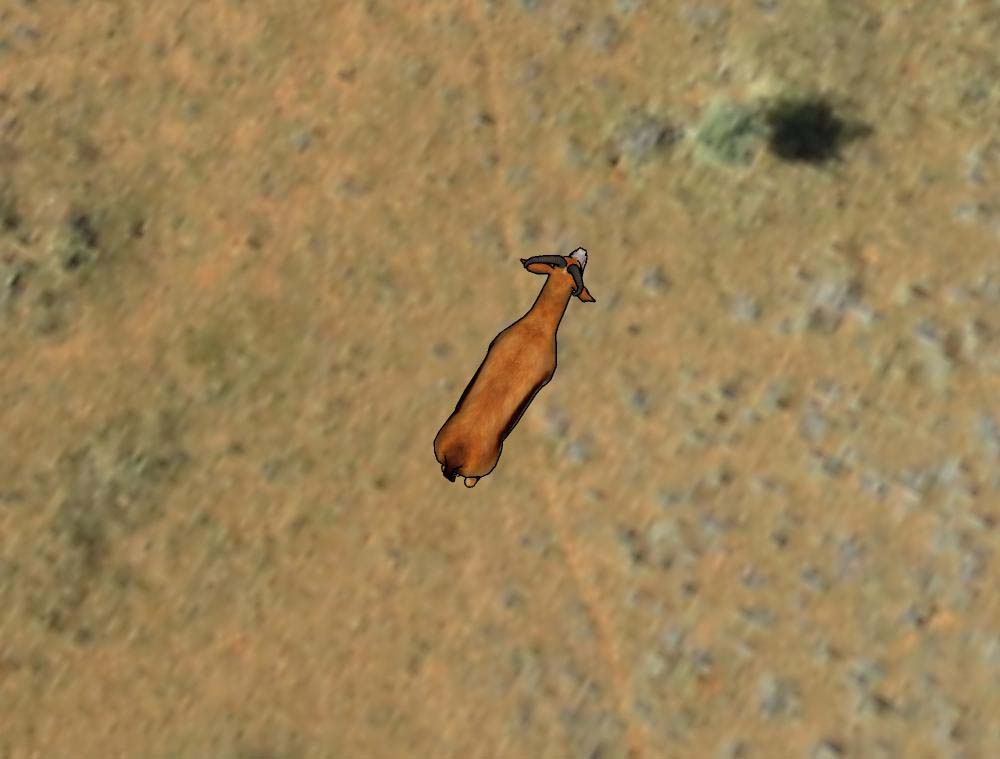springbok: (437, 242, 595, 491)
